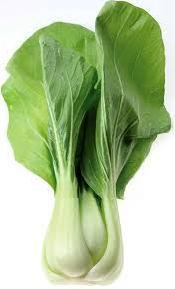Healthy-Pechay: (0, 11, 170, 289)
